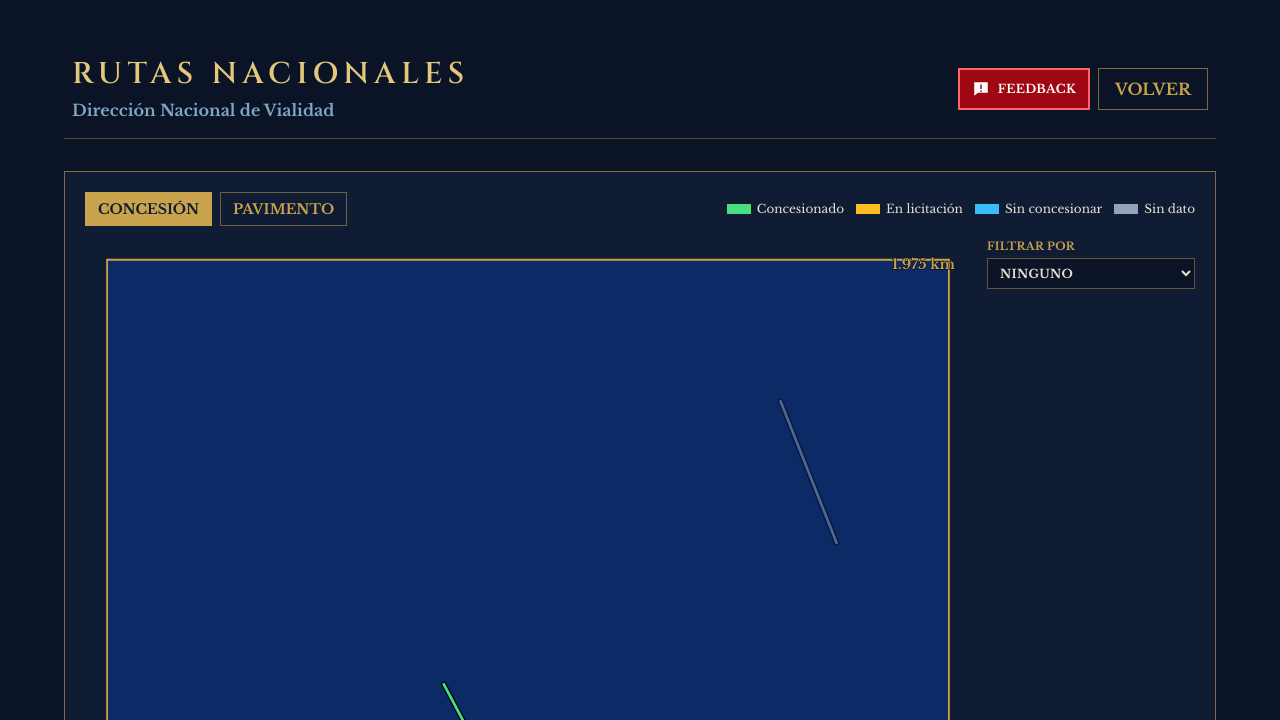
it: selection tooltip › a sidebar pick shows its tooltip on desktop
The width and height of the screenshot is (1280, 720).
Select "Ruta" in the dropdown labelled "Filtrar por": (1091, 274) [987, 258, 1195, 289]
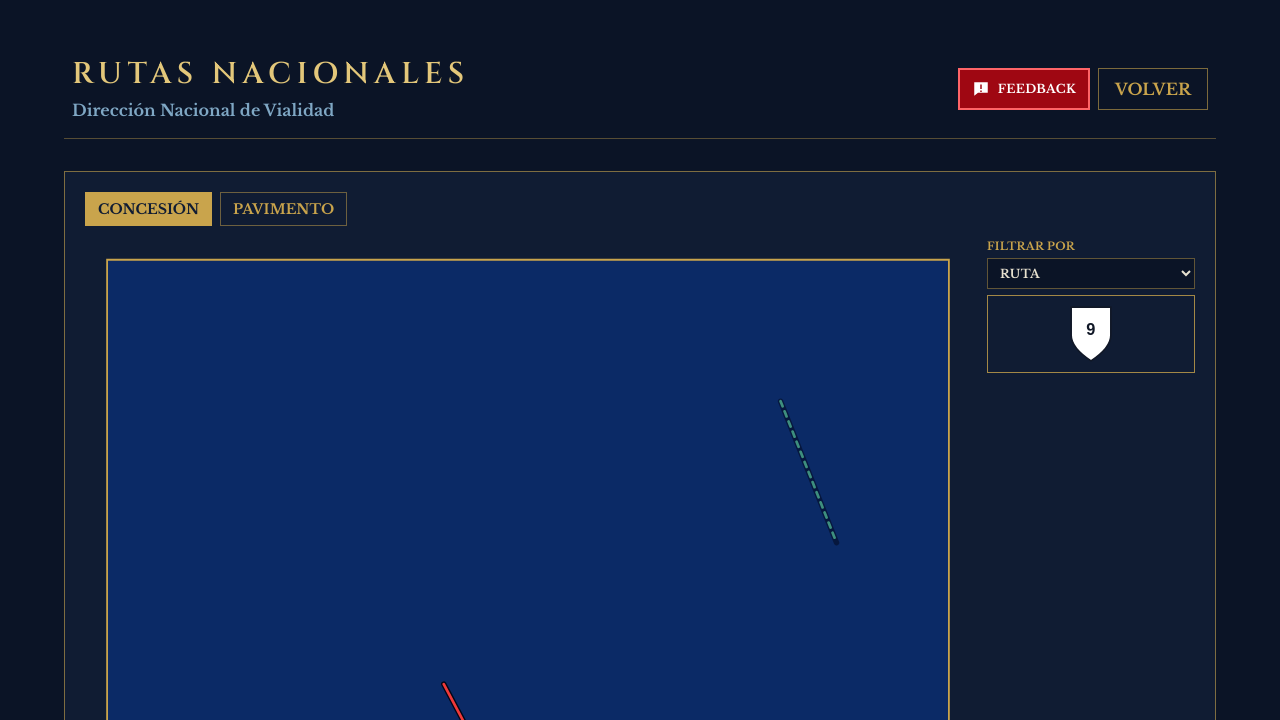
Click the button named "Escudo RN 9": (1091, 334) [987, 295, 1195, 373]
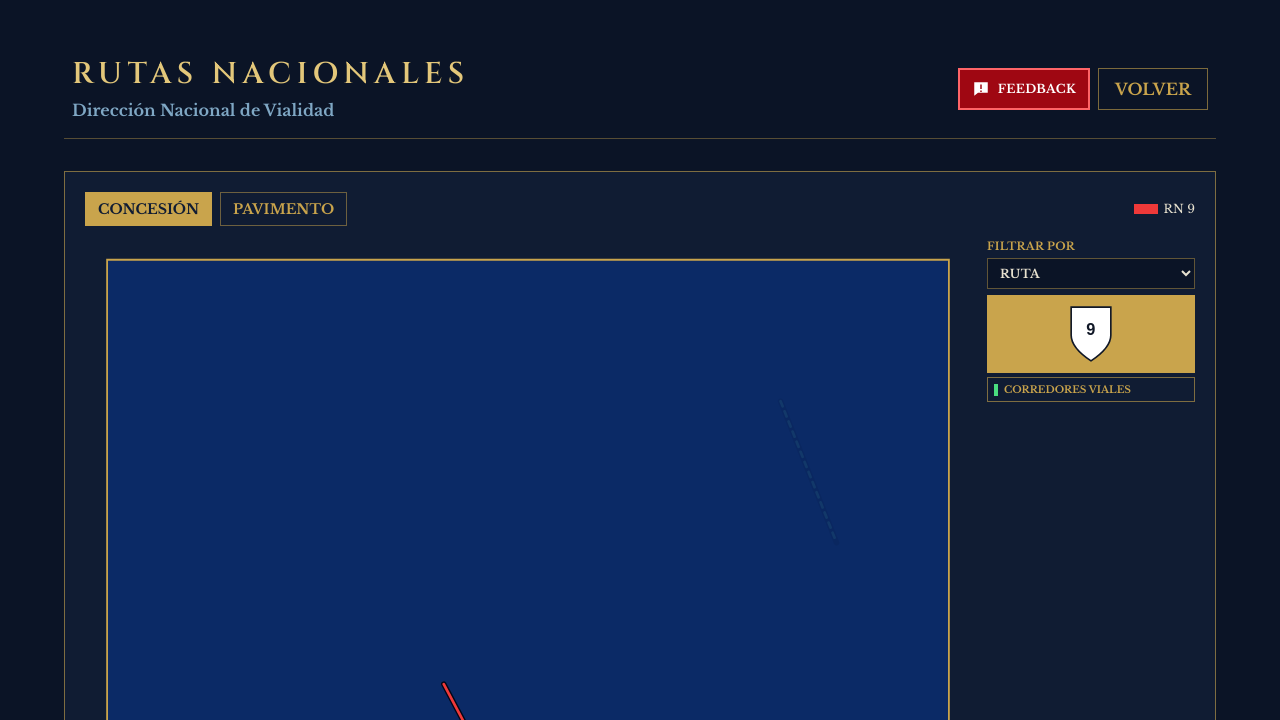
Click the button with aria-label "Seleccionar Corredores Viales en RN 9": (1091, 390) [987, 377, 1195, 402]
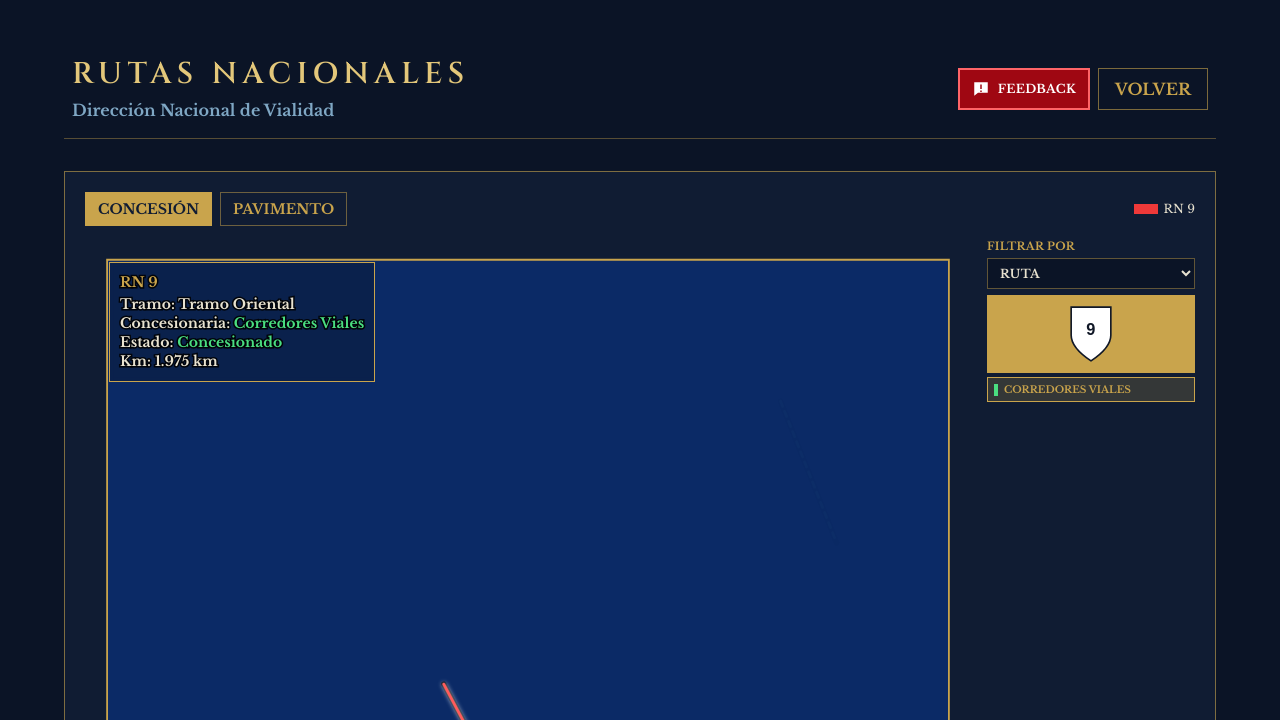
Now the message shows "Corredores Viales", box [234, 314, 364, 332]
